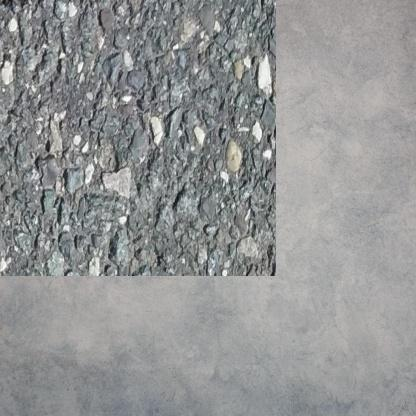Cracks: (0, 0, 58, 17)
